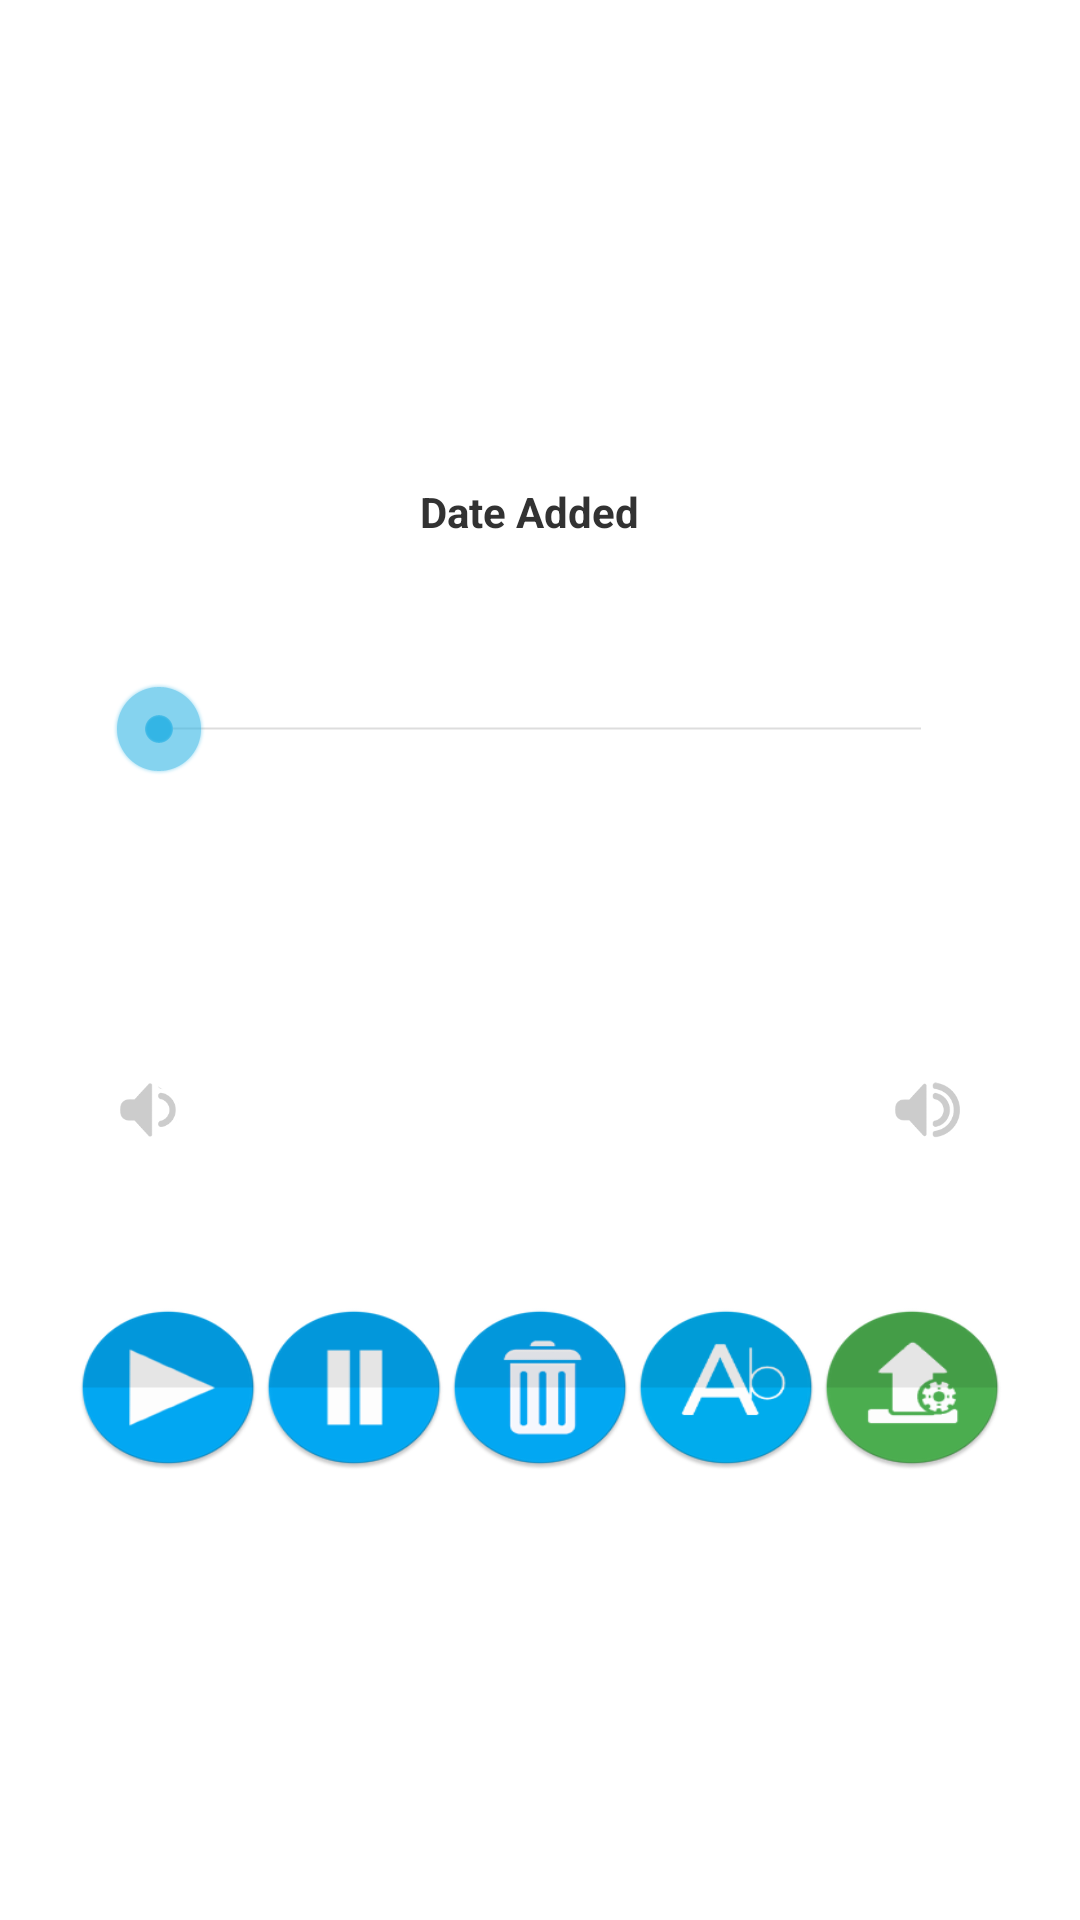

Icons on this 1080*1920 Android screen, each with its box as bbox(x1, y1, x2, y2):
pic volume: bbox(120, 1083, 176, 1136), bbox(895, 1083, 960, 1137)
